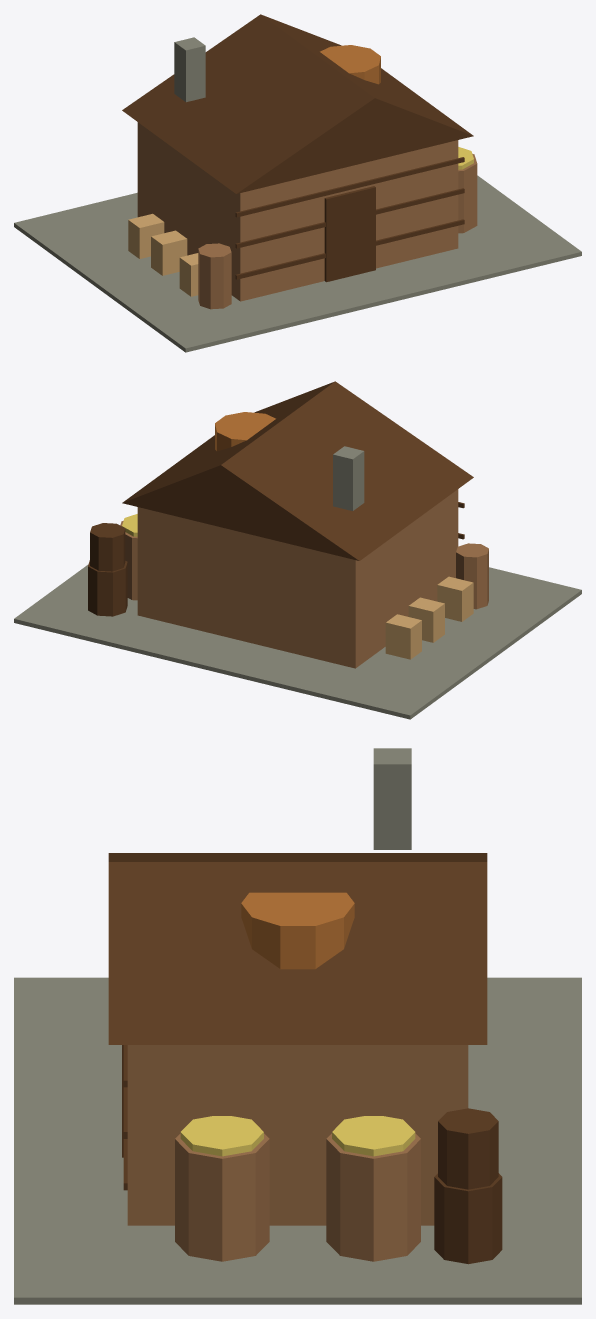
File: brewery.glb
The picture shows the model from 3 angles, top to bottom: view 1: azimuth 30°, elevation 25°; view 2: azimuth 150°, elevation 25°; view 3: azimuth 270°, elevation 25°; orthographic projection. The views are drawn at different scales.
Parts seen in each view (by area): view 1: Roof, Ground, Body, Door, WaterBarrel, Chimney, Kettle, Plank_85, Sack_1, Vat1, Sack_2, Plank_25 (+2 smaller); view 2: Body, Roof, Ground, Chimney, BeerBarrel1, BeerBarrel2, WaterBarrel, Kettle, Sack_2, Sack_0, Sack_1, Vat2; view 3: Ground, Roof, Body, Vat1, Vat2, Kettle, BeerBarrel1, BeerBarrel2, Chimney, Foam1, Foam2.
Boxes of the visible parts, bbox=[...] form: Roof: bbox=[122, 14, 473, 193]; Ground: bbox=[14, 175, 581, 352]; Body: bbox=[137, 122, 458, 301]; Door: bbox=[324, 186, 375, 282]; WaterBarrel: bbox=[198, 243, 231, 309]; Chimney: bbox=[174, 37, 205, 102]; Kettle: bbox=[320, 45, 380, 84]; Plank_85: bbox=[235, 157, 464, 217]; Sack_1: bbox=[151, 230, 187, 275]; Vat1: bbox=[458, 154, 477, 233]; Sack_2: bbox=[128, 213, 164, 258]; Plank_25: bbox=[235, 219, 464, 279]; Body: bbox=[137, 489, 458, 668]; Roof: bbox=[122, 381, 473, 560]; Ground: bbox=[14, 565, 581, 719]; Chimney: bbox=[333, 446, 364, 510]; BeerBarrel1: bbox=[88, 560, 127, 616]; BeerBarrel2: bbox=[90, 523, 125, 571]; WaterBarrel: bbox=[456, 543, 488, 609]; Kettle: bbox=[215, 412, 275, 451]; Sack_2: bbox=[385, 614, 421, 659]; Sack_0: bbox=[437, 576, 473, 621]; Sack_1: bbox=[408, 597, 444, 642]; Vat2: bbox=[120, 521, 137, 600]; Ground: bbox=[14, 977, 581, 1304]; Roof: bbox=[108, 853, 487, 1044]; Body: bbox=[127, 1045, 468, 1225]; Vat1: bbox=[175, 1133, 269, 1261]; Vat2: bbox=[326, 1133, 420, 1261]; Kettle: bbox=[241, 892, 354, 969]; BeerBarrel1: bbox=[434, 1173, 502, 1264]; BeerBarrel2: bbox=[438, 1108, 498, 1189]; Chimney: bbox=[373, 748, 411, 849]; Foam1: bbox=[180, 1116, 263, 1156]; Foam2: bbox=[332, 1116, 415, 1156].
Bounding box in the file's own units: 4 × 1.89 × 3.
